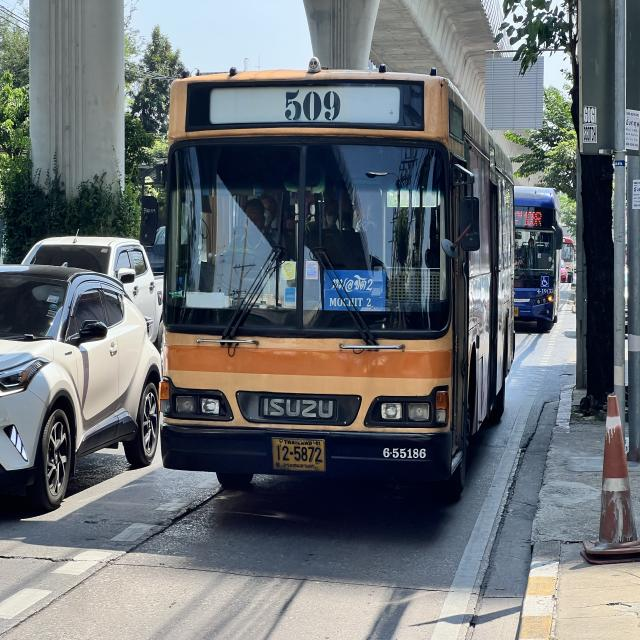BMTA-bus: (160, 67, 515, 494)
Bus-Line-Number: (275, 85, 348, 130), (522, 210, 544, 228)
Destination-Sign-Normal: (322, 270, 386, 312)
TSB-Bus: (513, 186, 564, 334)
